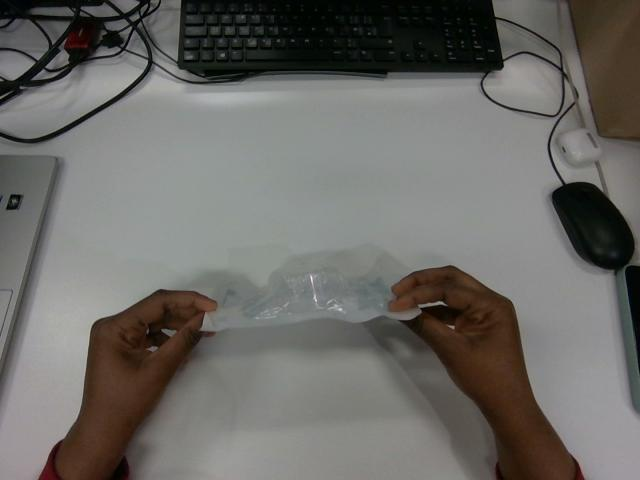gallipot: (202, 249, 420, 330)
